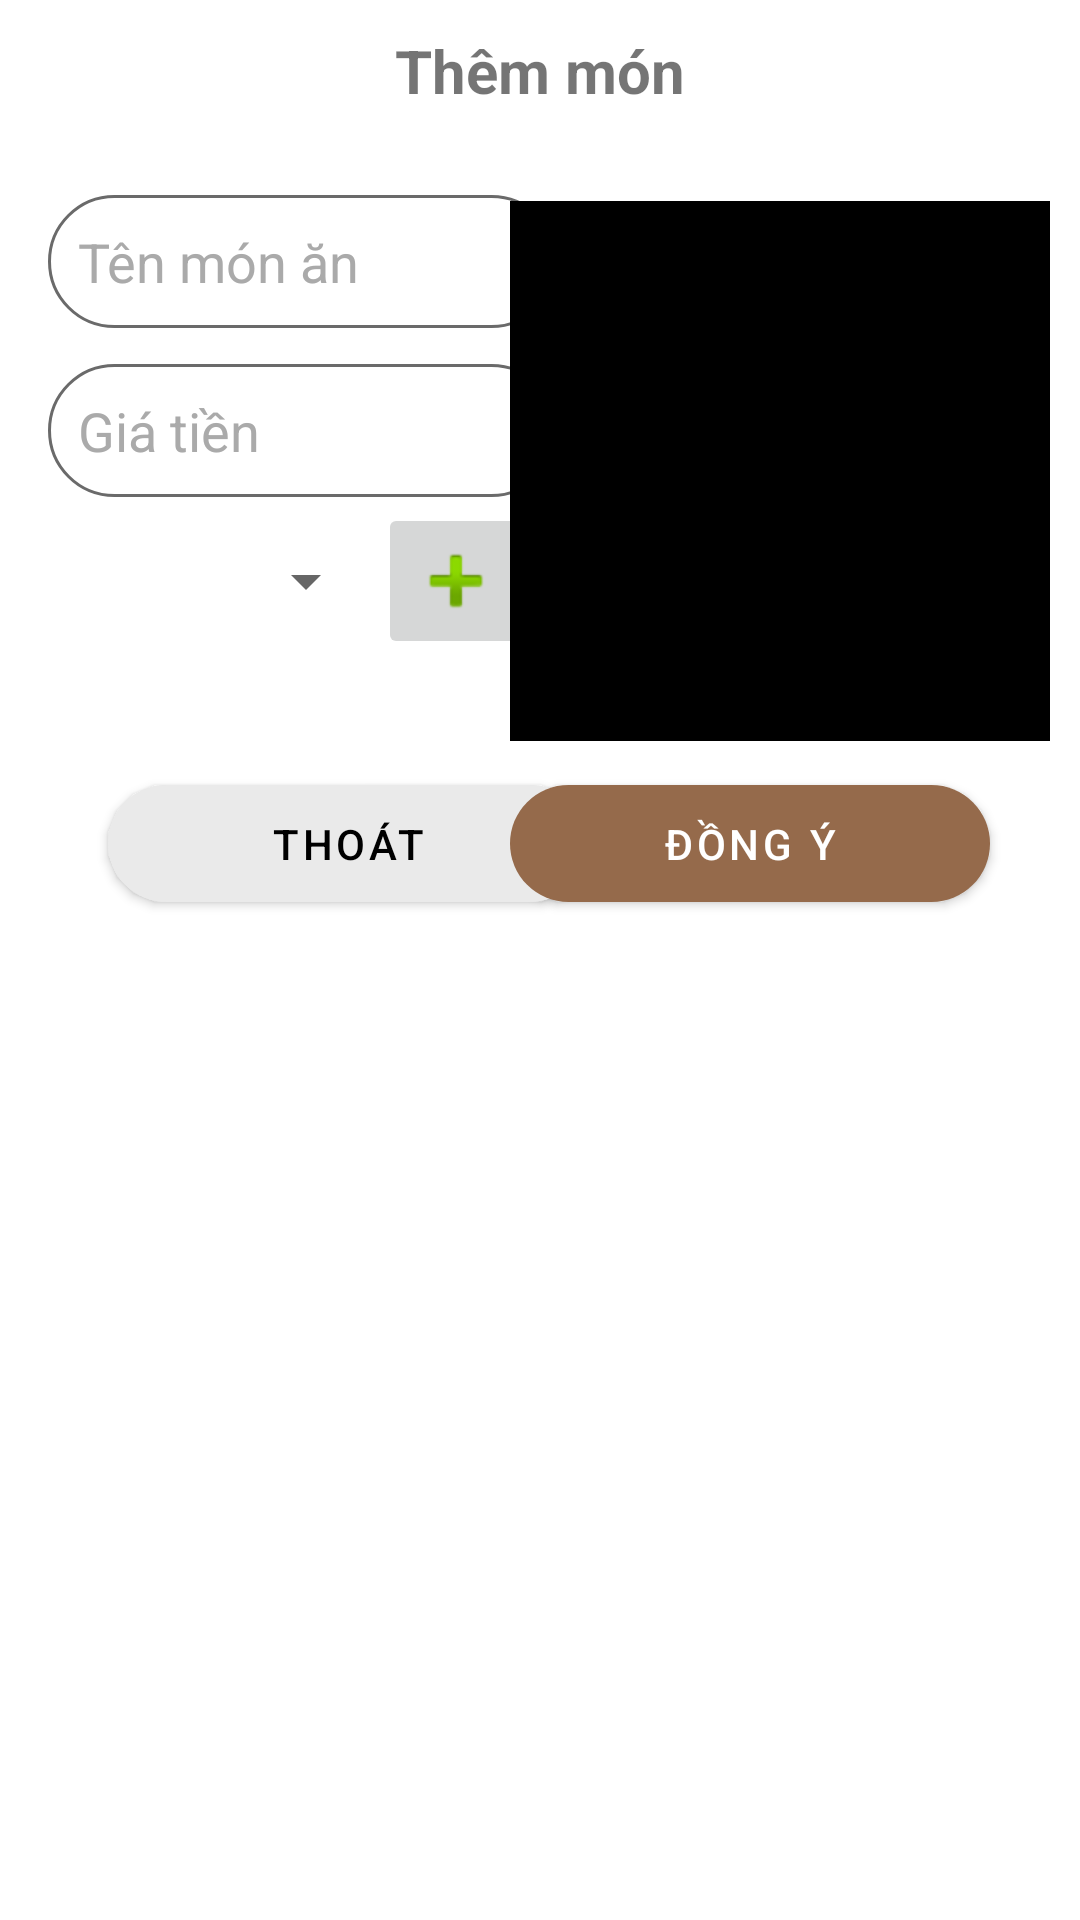

Icon bounding boxes for this 1080px×1920px phone screenshot, format {"x1": x1, "y1": y1, "x2": x2, "y2": y2}:
add: {"x1": 390, "y1": 503, "x2": 534, "y2": 659}
